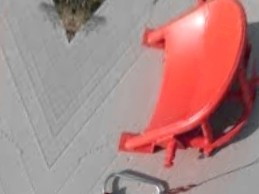chock: (110, 0, 259, 183)
